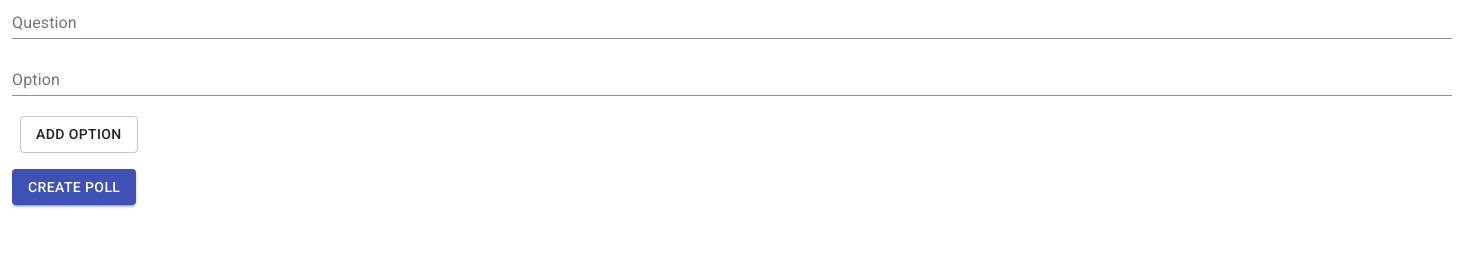
Scenario: Component PollCreator › submitting › update errors when client validation errors occurred
The width and height of the screenshot is (1464, 273).
Click the button "Create poll" at (74, 187), box [12,168,136,205]
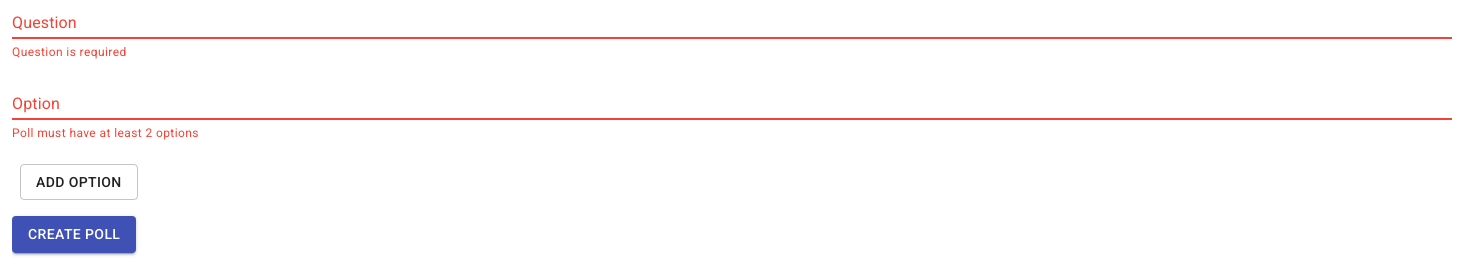
Check: the text "Question is required" is shown, box [12,45,127,59]
Check: the text "Poll must have at least 2 options" is shown, box [12,126,199,140]
